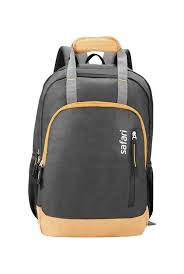backpack: (27, 35, 155, 237)
